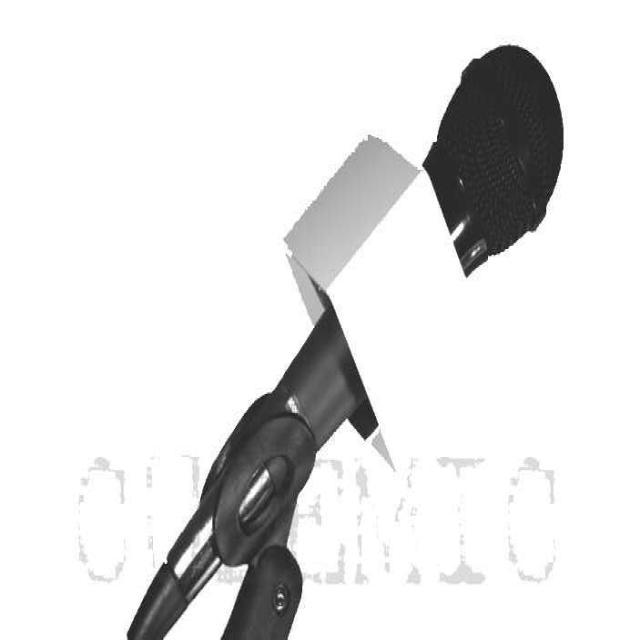microphone: (286, 52, 559, 430)
